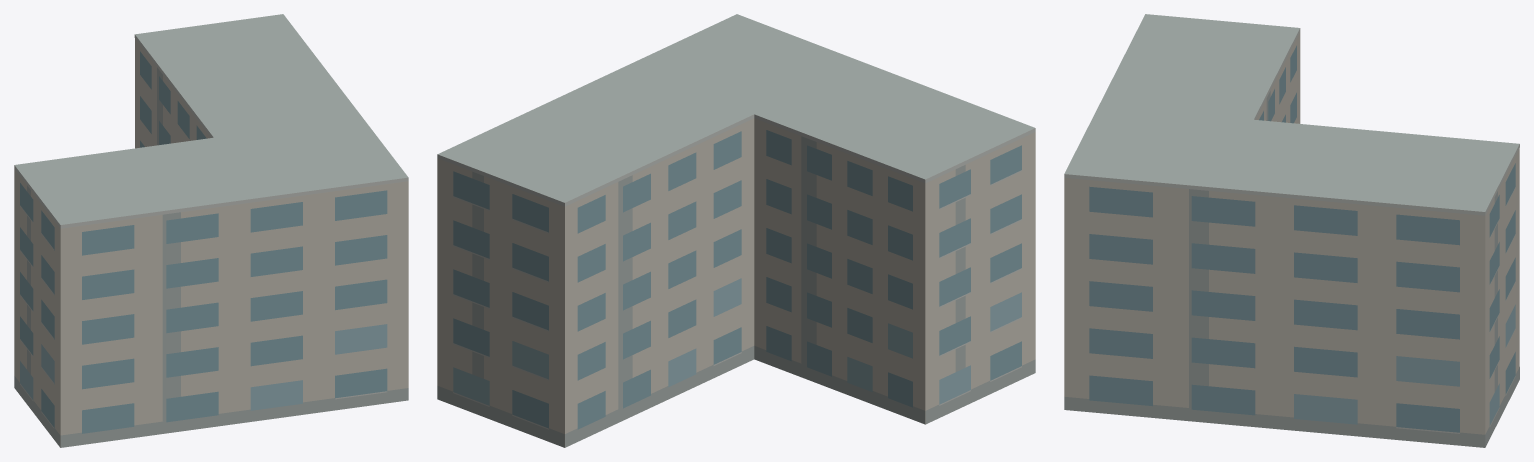
File: residential-7fd1ad84-a756-49da-a9d8-9945b11dfedc.glb
3 views of the same model, side by side, from view 1: azimuth 30°, elevation 25°; view 2: azimuth 150°, elevation 25°; view 3: azimuth 270°, elevation 25° (orthographic). The views are drawn at different scales.
Parts seen in each view (by area): view 1: residential-7fd1ad84-a756-49da-a9d8-9945b11dfedc.tmp; view 2: residential-7fd1ad84-a756-49da-a9d8-9945b11dfedc.tmp; view 3: residential-7fd1ad84-a756-49da-a9d8-9945b11dfedc.tmp.
Boxes of the visible parts, left/top/right/bottom form: residential-7fd1ad84-a756-49da-a9d8-9945b11dfedc.tmp: left=14, top=14, right=408, bottom=447; residential-7fd1ad84-a756-49da-a9d8-9945b11dfedc.tmp: left=437, top=14, right=1035, bottom=447; residential-7fd1ad84-a756-49da-a9d8-9945b11dfedc.tmp: left=1064, top=14, right=1519, bottom=447.
Size of the model in its own units: 27.47 by 15.25 by 26.71.
